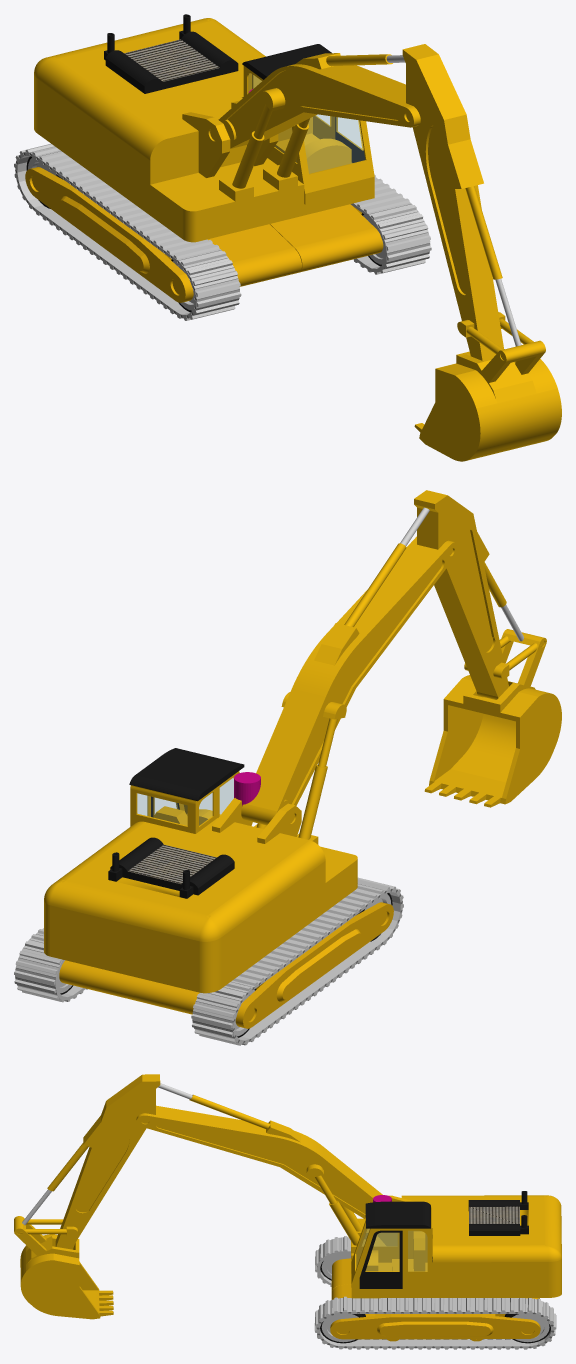
The model's file is anExcavator_b.obj.
3 views of the same model, one above another, from view 1: azimuth 30°, elevation 25°; view 2: azimuth 150°, elevation 25°; view 3: azimuth 270°, elevation 25° (orthographic). The views are drawn at different scales.
Parts seen in each view (by area): view 1: 简单挖土机.002; view 2: 简单挖土机.002; view 3: 简单挖土机.002.
Boxes of the visible parts, box(x1,y1,x2,y2) form: 简单挖土机.002: box(14, 14, 561, 461); 简单挖土机.002: box(14, 490, 561, 1045); 简单挖土机.002: box(14, 1074, 561, 1349).
Bounding box in the file's own units: 4.76 × 6.55 × 14.23.
